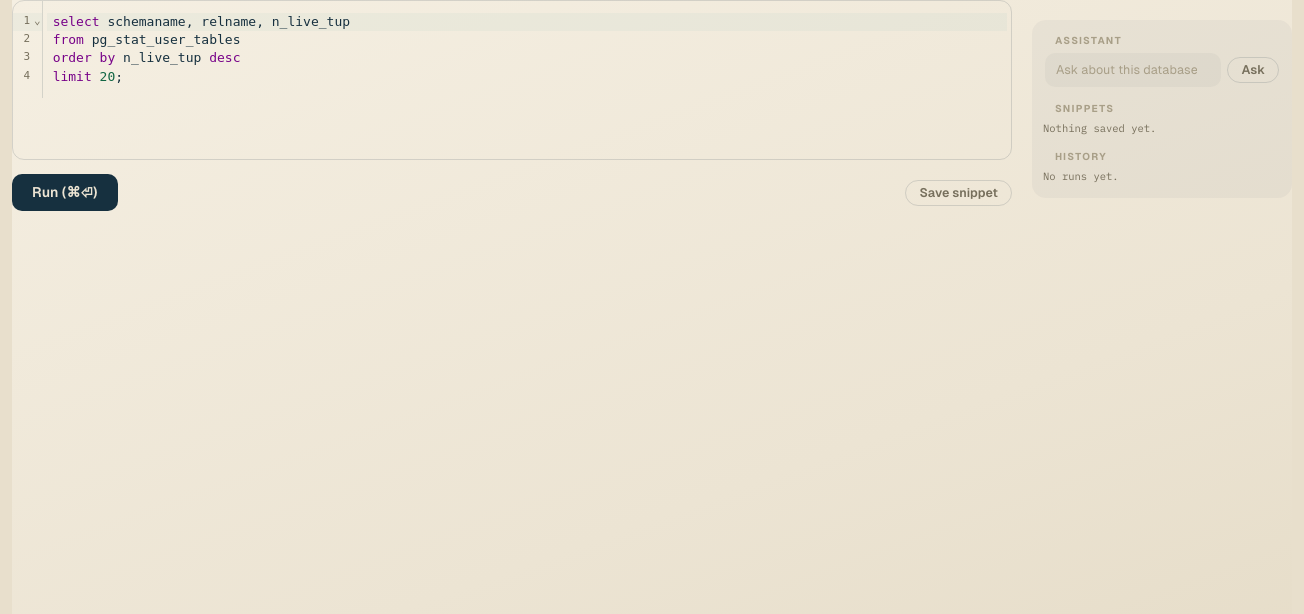
Test: SqlConsole › runs a query and renders the results grid with count + duration
The width and height of the screenshot is (1304, 614).
Click the button "Run (⌘⏎)": [65, 192] box top-left (12, 174), bottom-right (118, 211)
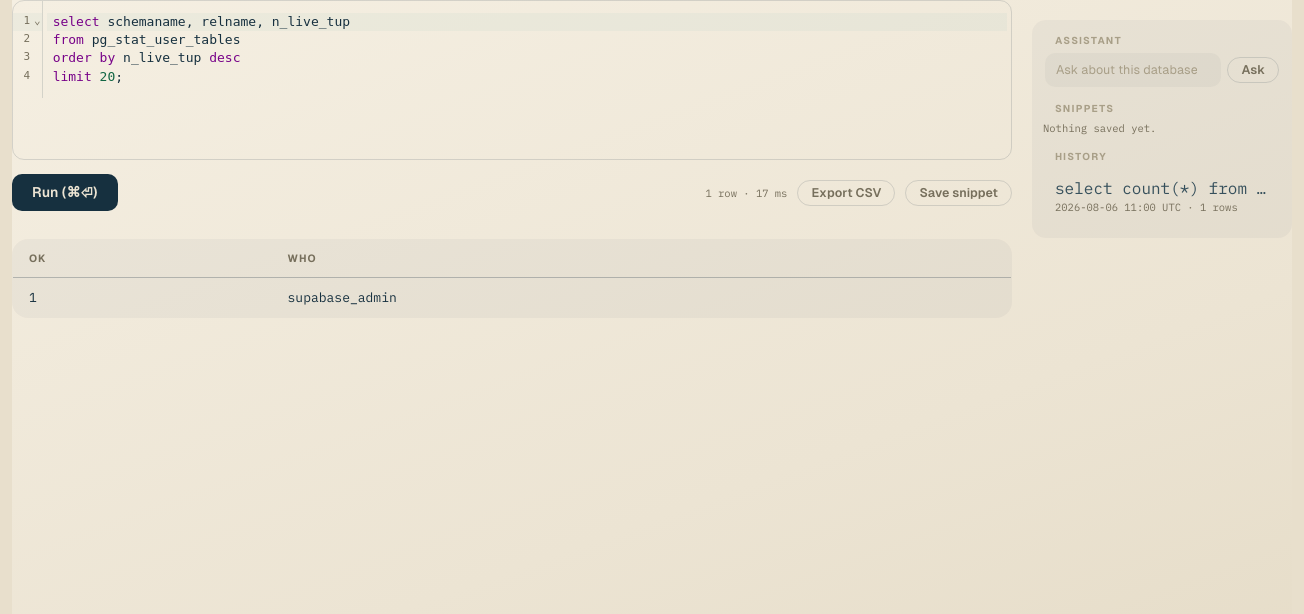
Check: the text "supabase_admin" is shown, box top-left (288, 289), bottom-right (397, 306)
Check: the text "1 row · 17 ms" is shown, box top-left (706, 186), bottom-right (788, 200)
